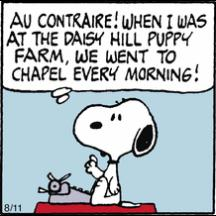snoopy: (72, 97, 158, 209)
